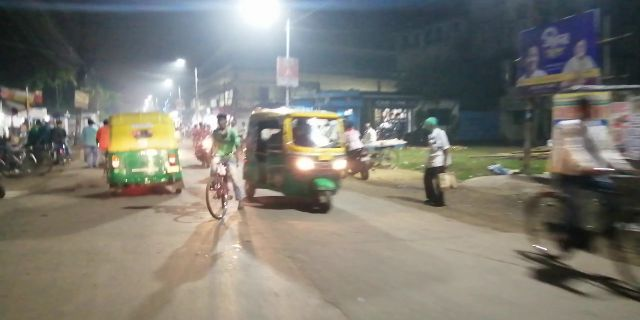Autorickshaw: (253, 104, 350, 213), (103, 105, 188, 199)
Cycle: (521, 92, 640, 304), (201, 105, 242, 227)
